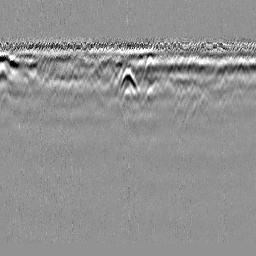cavity: (118, 66, 137, 90)
